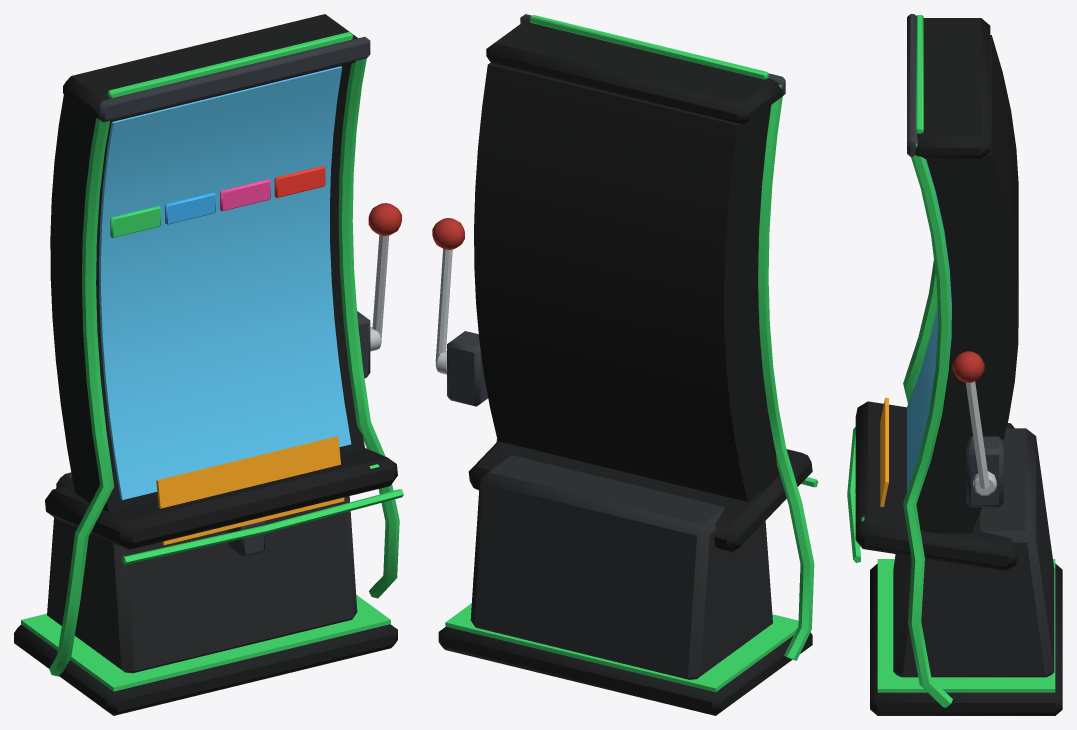
The model's file is 113_borne_huff_n_puff.fbx.
3 views of the same model, side by side, from view 1: azimuth 30°, elevation 25°; view 2: azimuth 150°, elevation 25°; view 3: azimuth 270°, elevation 25° (orthographic). The views are drawn at different scales.
Visible parts, largest first — view 1: Ecran, Meuble, Lumieres, Fronton, Jackpots, Levier, BoulLevier; view 2: Meuble, Lumieres, Levier, BoulLevier; view 3: Meuble, Lumieres, Ecran, Levier, Fronton, BoulLevier.
Boxes of the visible parts, x1,y1,x2,y2 form: Ecran: [99, 66, 351, 545]; Meuble: [14, 14, 397, 715]; Lumieres: [21, 32, 403, 691]; Fronton: [98, 37, 370, 122]; Jackpots: [110, 166, 325, 238]; Levier: [370, 235, 389, 351]; BoulLevier: [368, 203, 401, 235]; Meuble: [438, 19, 812, 715]; Lumieres: [445, 15, 818, 692]; Levier: [435, 249, 452, 374]; BoulLevier: [432, 218, 464, 249]; Meuble: [855, 18, 1062, 715]; Lumieres: [847, 15, 1055, 707]; Ecran: [880, 159, 951, 506]; Levier: [965, 381, 996, 495]; Fronton: [907, 14, 917, 156]; BoulLevier: [952, 351, 984, 382].
Bounding box in the file's own units: 1.57 × 2.49 × 0.84.
Materials: 1 (1 with a texture image).
